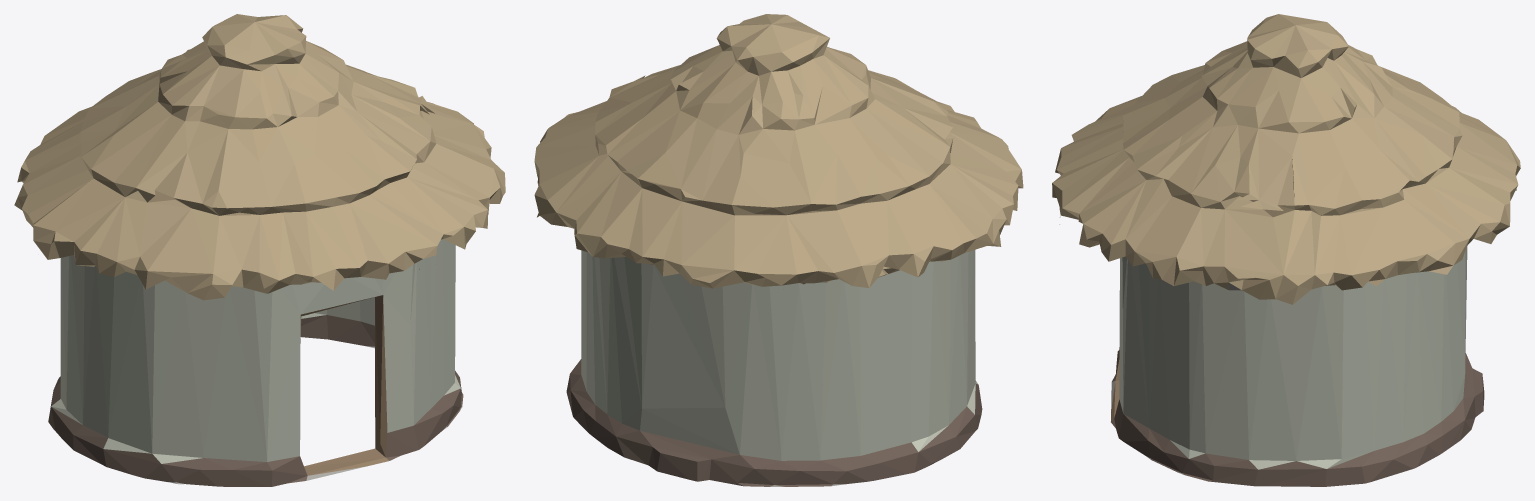
3 views of the same model, side by side, from view 1: azimuth 30°, elevation 25°; view 2: azimuth 150°, elevation 25°; view 3: azimuth 270°, elevation 25° (orthographic).
Visible parts, largest first — view 1: geometry_0; view 2: geometry_0; view 3: geometry_0.
Part boxes in pixels (x1,y1,x2,y2): geometry_0: [14, 14, 505, 486]; geometry_0: [534, 14, 1023, 486]; geometry_0: [1052, 14, 1520, 486].
Bounding box in the file's own units: 0.8882 × 0.7304 × 0.8232.
